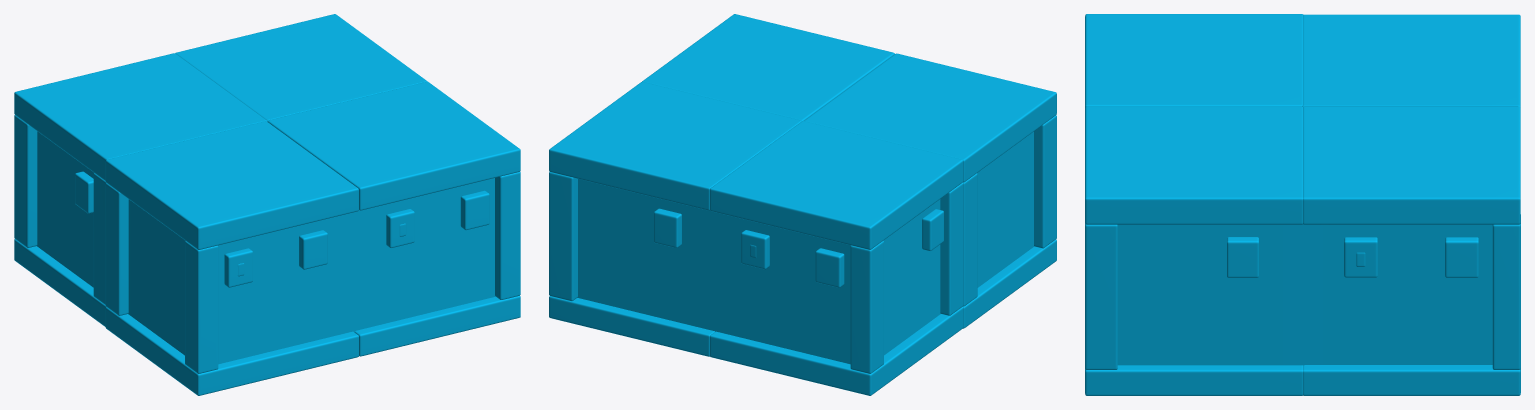
File: SM_Clay_Body_02.fbx
3 views of the same model, side by side, from view 1: azimuth 30°, elevation 25°; view 2: azimuth 150°, elevation 25°; view 3: azimuth 270°, elevation 25° (orthographic). The views are drawn at different scales.
Visible parts, largest first — view 1: Cube.165_Piece.007; view 2: Cube.165_Piece.007; view 3: Cube.165_Piece.007.
Boxes of the visible parts, left/top/right/bottom form: Cube.165_Piece.007: left=14, top=14, right=520, bottom=395; Cube.165_Piece.007: left=549, top=14, right=1056, bottom=395; Cube.165_Piece.007: left=1085, top=14, right=1520, bottom=395.
Bounding box in the file's own units: 5 × 2.5 × 4.98.
